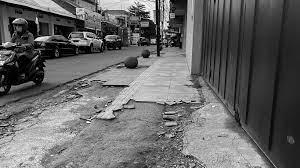Pothole: (1, 94, 265, 168)
